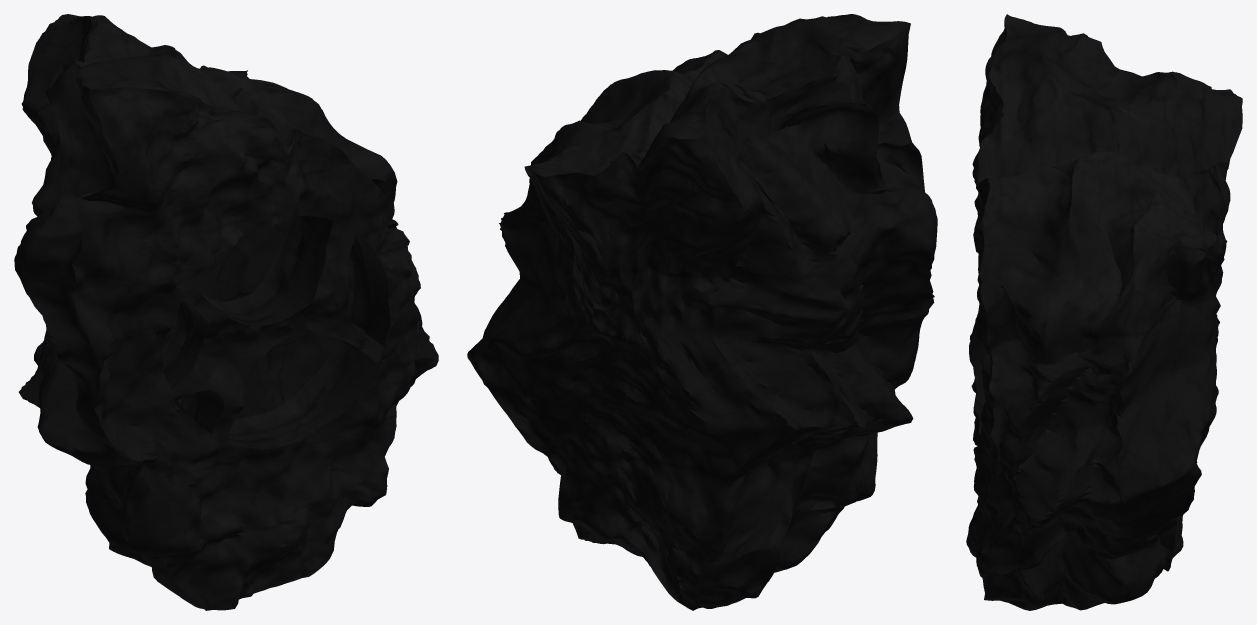
Rendered from giraffe-bio-escultura.glb.
3 views of the same model, side by side, from view 1: azimuth 30°, elevation 25°; view 2: azimuth 150°, elevation 25°; view 3: azimuth 270°, elevation 25° (orthographic). The views are drawn at different scales.
Parts seen in each view (by area): view 1: Monolito de piedra — isologo tallado; view 2: Monolito de piedra — isologo tallado; view 3: Monolito de piedra — isologo tallado.
Boxes of the visible parts, left/top/right/bottom form: Monolito de piedra — isologo tallado: left=14, top=14, right=438, bottom=610; Monolito de piedra — isologo tallado: left=467, top=14, right=937, bottom=610; Monolito de piedra — isologo tallado: left=966, top=14, right=1242, bottom=610.
Bounding box in the file's own units: 4.36 × 5.55 × 2.71.
1 material, 1 textured.
